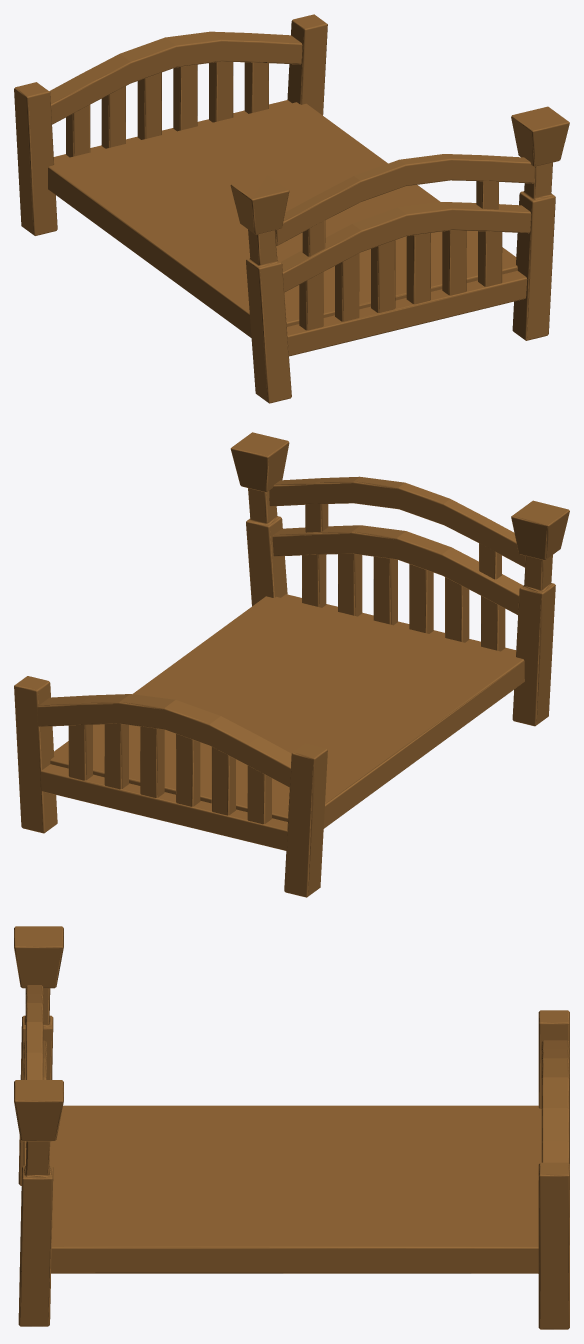
Rendered from pinggiranBed.obj.
3 views of the same model, one above another, from view 1: azimuth 30°, elevation 25°; view 2: azimuth 150°, elevation 25°; view 3: azimuth 270°, elevation 25° (orthographic). The views are drawn at different scales.
Visible parts, largest first — view 1: Bed_frame_Cube.010; view 2: Bed_frame_Cube.010; view 3: Bed_frame_Cube.010.
Part boxes in pixels (x1,y1,x2,y2): Bed_frame_Cube.010: (14,14,569,403); Bed_frame_Cube.010: (14,432,569,897); Bed_frame_Cube.010: (14,926,569,1329).
Bounding box in the file's own units: 2.65 × 1.69 × 3.56.
